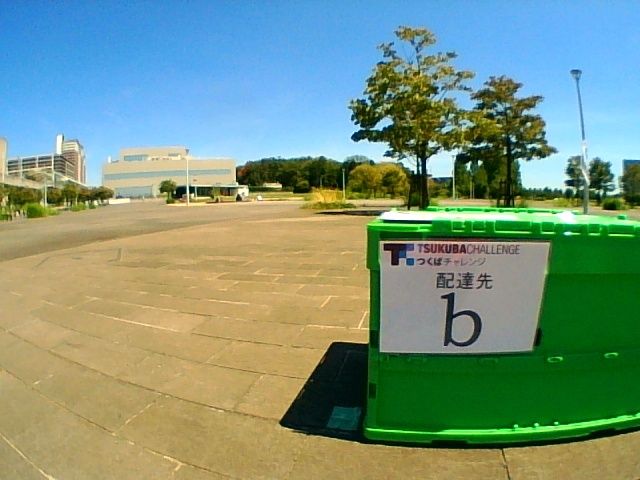green_box: (364, 207, 640, 444)
tag_b: (380, 243, 530, 350)
